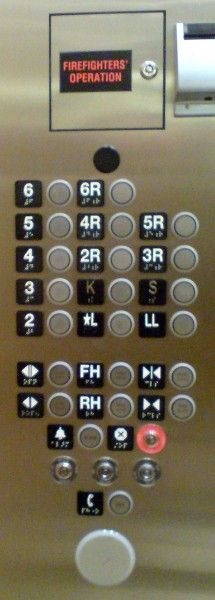button: (105, 422, 167, 456), (138, 244, 200, 274), (136, 393, 197, 423), (137, 278, 200, 307), (13, 178, 73, 208), (139, 211, 201, 240), (137, 310, 199, 339), (76, 360, 135, 390), (77, 179, 138, 208), (76, 212, 137, 241), (76, 245, 137, 274), (137, 362, 198, 391), (75, 392, 136, 421), (76, 309, 136, 338), (15, 360, 75, 389), (75, 489, 135, 518), (46, 423, 105, 452), (76, 278, 137, 306), (15, 278, 75, 306), (15, 213, 74, 241), (15, 245, 74, 273), (16, 391, 75, 419), (15, 310, 74, 337)
